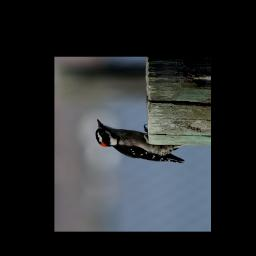Woodpecker: (95, 118, 184, 165)
